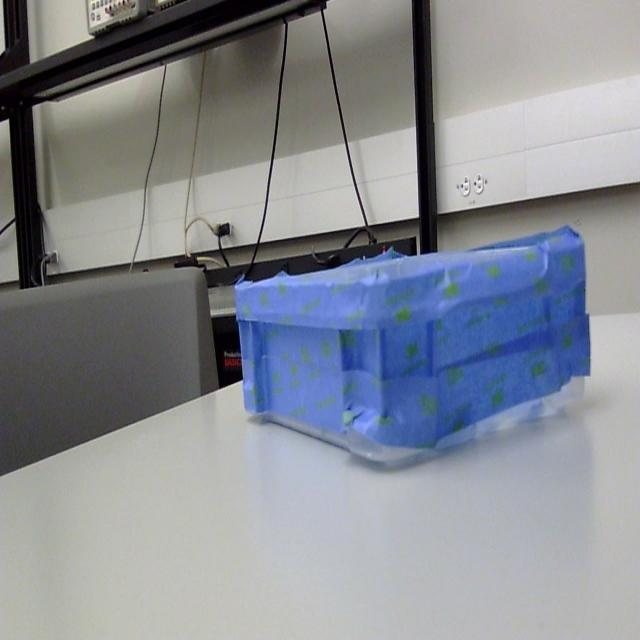bucket: (233, 227, 592, 473)
